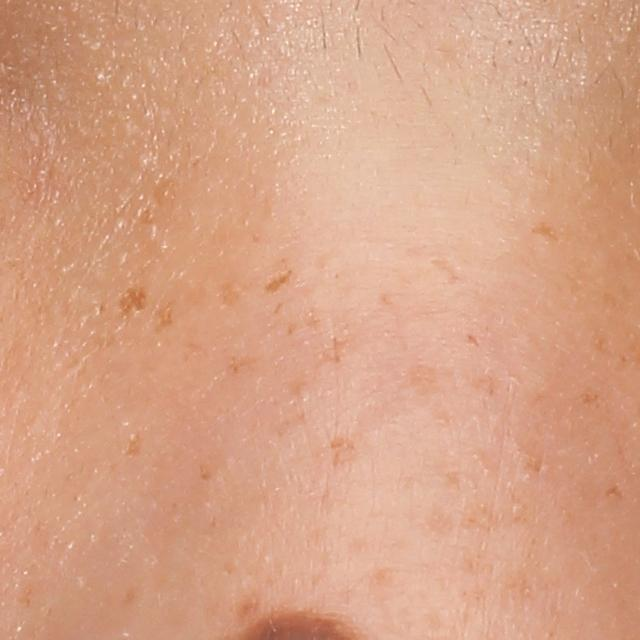melasma: (403, 362, 459, 406), (305, 331, 355, 375), (118, 282, 151, 320), (218, 274, 249, 312), (330, 433, 361, 468), (152, 296, 178, 336), (260, 268, 296, 296), (224, 352, 259, 377), (526, 221, 561, 244), (124, 429, 144, 460), (574, 388, 603, 407), (592, 328, 611, 356), (197, 461, 216, 484), (604, 483, 623, 499), (467, 333, 483, 349), (287, 319, 298, 337), (273, 301, 285, 315)
